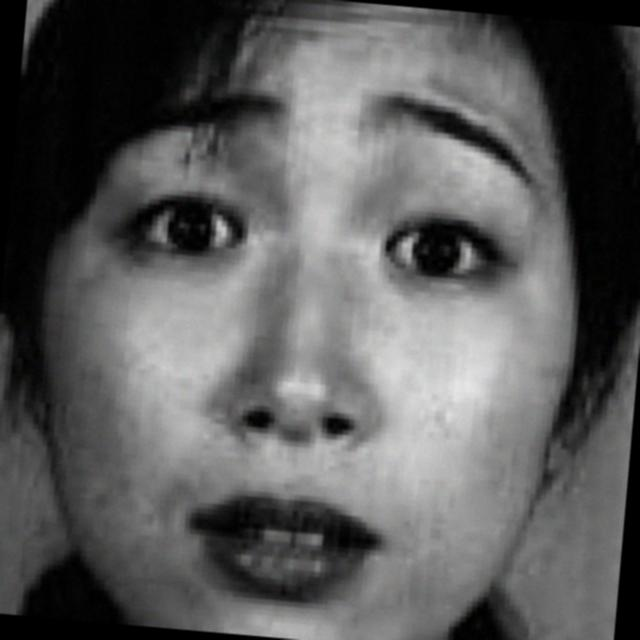fear: (48, 31, 600, 640)
